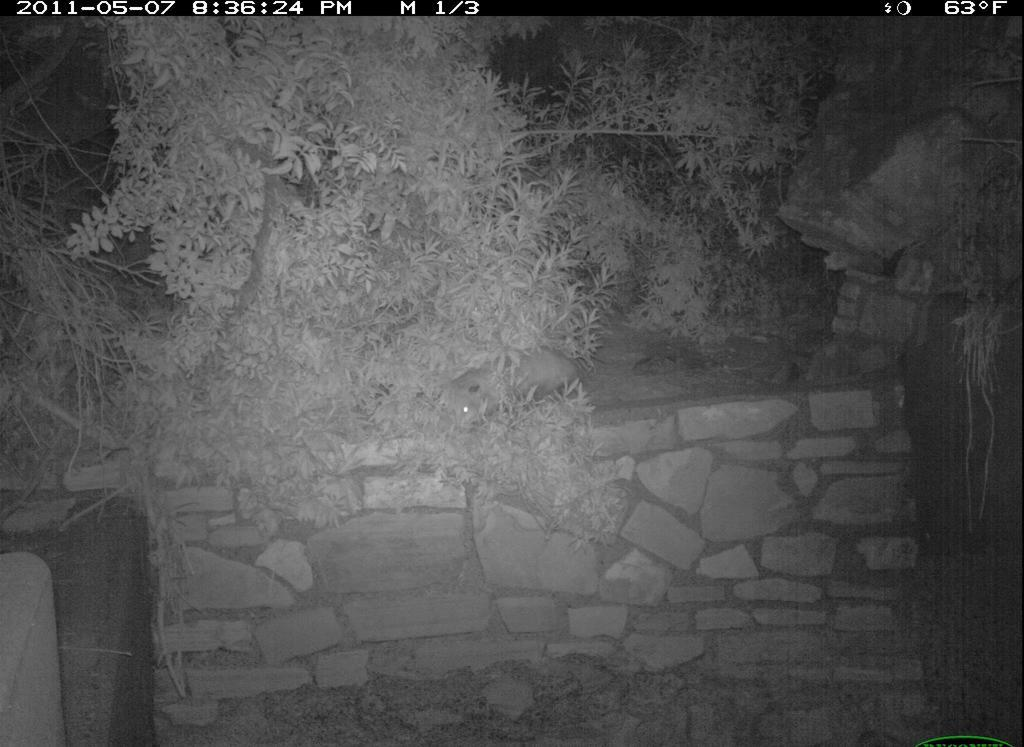opossum: (433, 342, 598, 442)
